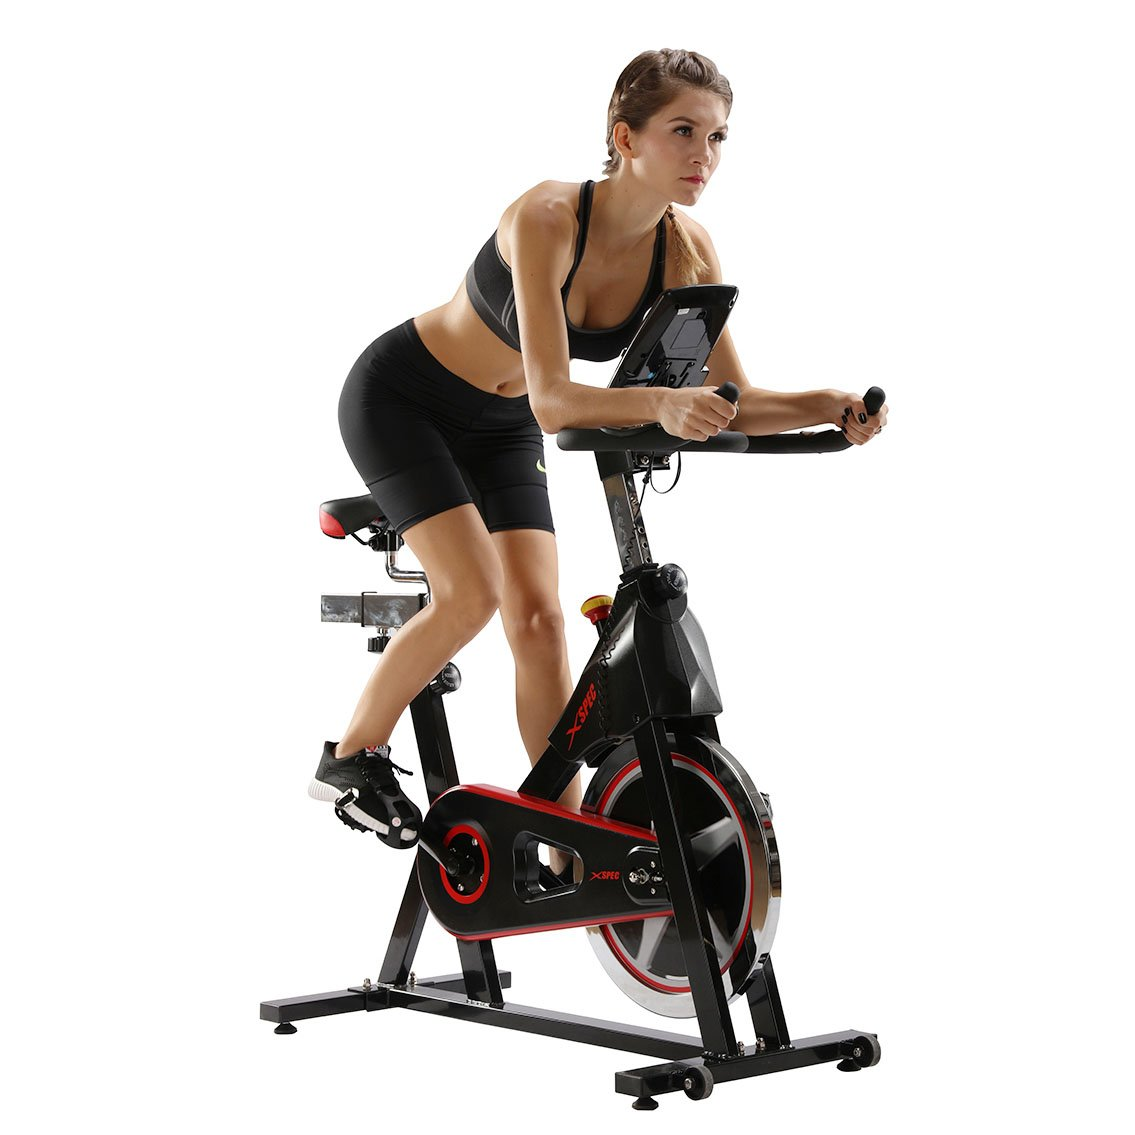gym_bike: (237, 257, 918, 1113)
